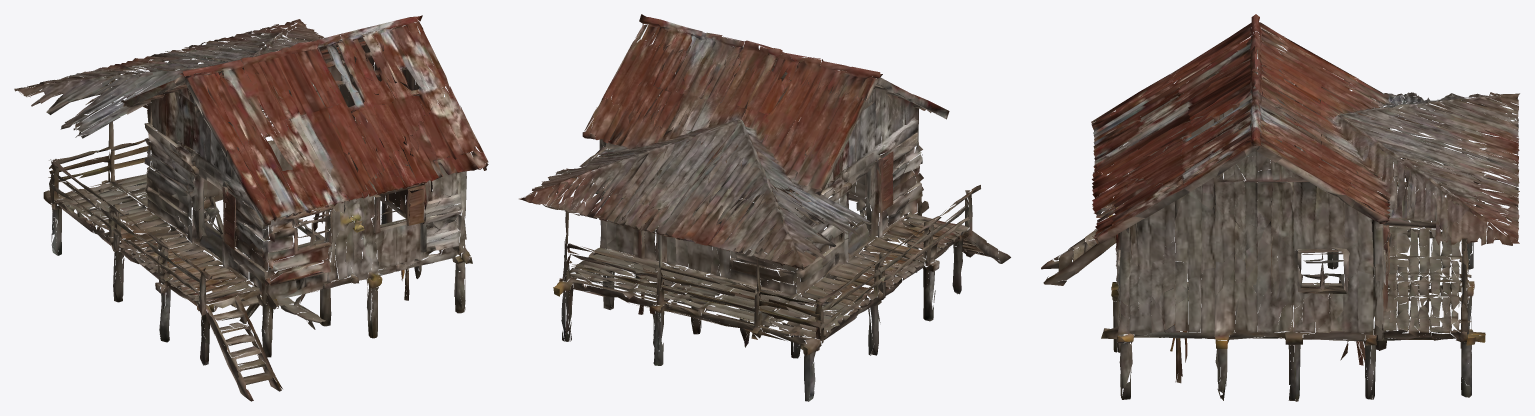
The model's file is t_palafita.glb.
3 views of the same model, side by side, from view 1: azimuth 30°, elevation 25°; view 2: azimuth 150°, elevation 25°; view 3: azimuth 270°, elevation 25° (orthographic). The views are drawn at different scales.
Parts seen in each view (by area): view 1: tripo_node_52b40274-f592-4c56-b95b-bb5765ce97ed; view 2: tripo_node_52b40274-f592-4c56-b95b-bb5765ce97ed; view 3: tripo_node_52b40274-f592-4c56-b95b-bb5765ce97ed.
Part boxes in pixels (x1=…): tripo_node_52b40274-f592-4c56-b95b-bb5765ce97ed: x1=14, y1=15, x2=488, y2=401; tripo_node_52b40274-f592-4c56-b95b-bb5765ce97ed: x1=519, y1=14, x2=1010, y2=401; tripo_node_52b40274-f592-4c56-b95b-bb5765ce97ed: x1=1041, y1=14, x2=1519, y2=401.
Size of the model in its own units: 9.7 by 8.03 by 12.82.
Materials: 1 (1 with a texture image).
